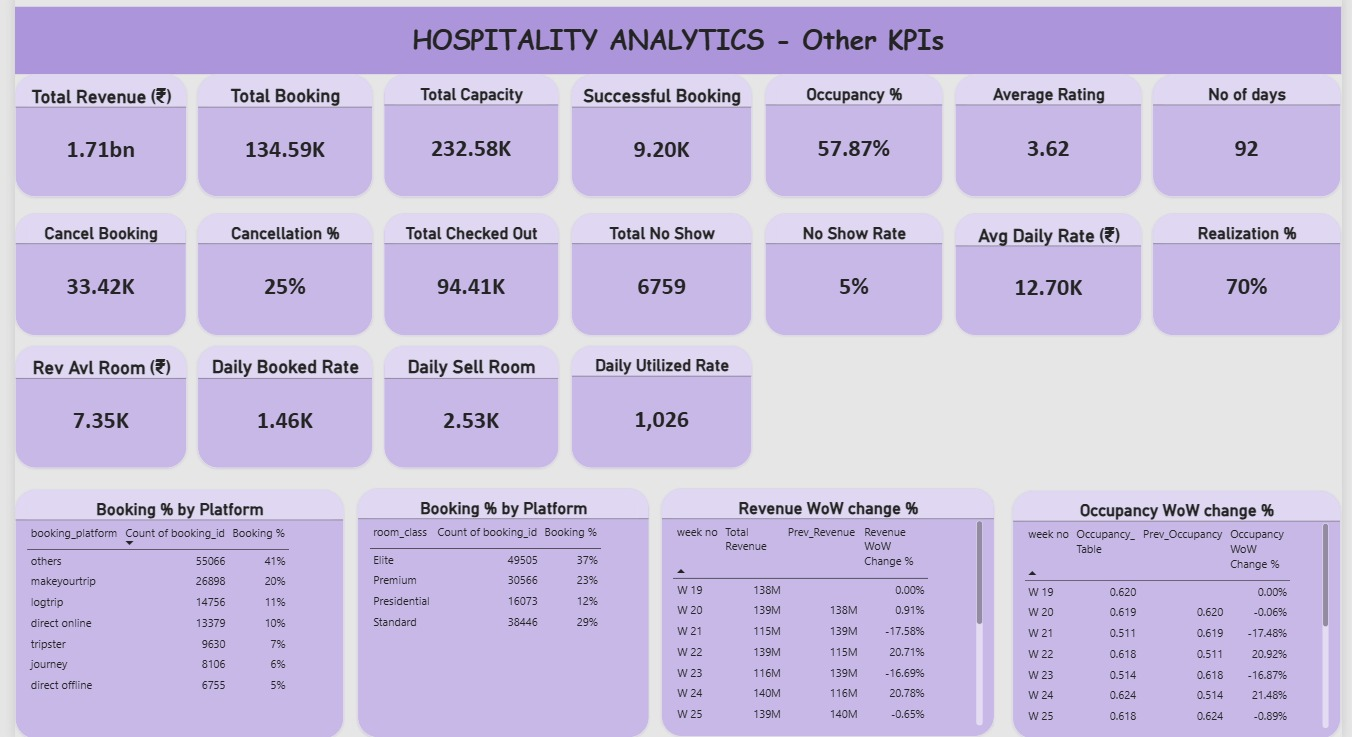

This screenshot's page, from the dashboard's own definition file:
{"tool":"powerbi","page":{"name":"KPI - 01","canvas":[1920,1080],"ordinal":1},"visuals":[{"type":"textbox","box":[0,0,1920,116.9],"z":0},{"type":"card","title":"Total Revenue (₹)","fields":{"Values":["fact_bookings.Total Revenue"]},"box":[0,116.9,248.9,177.5],"z":1000},{"type":"card","title":"Total Booking","fields":{"Values":["CountNonNull(fact_bookings.booking_id)"]},"box":[264,116.9,253.2,177.5],"z":2000},{"type":"card","title":"Total Capacity","fields":{"Values":["Sum(fact_aggregated_bookings.capacity)"]},"box":[534.5,116.9,253.2,177.5],"z":3000},{"type":"card","title":"Successful Booking","fields":{"Values":["CountNonNull(fact_aggregated_bookings.property_id)"]},"box":[805.1,116.9,261.9,177.5],"z":4000},{"type":"card","title":"Occupancy %","fields":{"Values":["fact_aggregated_bookings.Occupancy"]},"box":[1086.4,116.9,257.5,177.5],"z":5000},{"type":"card","title":"Average Rating","fields":{"Values":["Avg(fact_bookings.ratings_given)"]},"box":[1361.2,116.9,270.5,177.5],"z":6000},{"type":"card","title":"No of days","fields":{"Values":["CountNonNull(dim_date.date)"]},"box":[1646.9,116.9,272.7,177.5],"z":7000},{"type":"card","title":"Cancel Booking","fields":{"Values":["CountNonNull(fact_bookings.booking_id)"]},"box":[0,318.2,248.1,178],"z":8000},{"type":"card","title":"Total Checked Out","fields":{"Values":["CountNonNull(fact_bookings.booking_id)"]},"box":[534.5,318.1,253.2,177.5],"z":9000},{"type":"card","title":"Cancellation %","fields":{"Values":["calender.Total Cancellation Rate"]},"box":[264,318.1,253.2,177.5],"z":10000},{"type":"tableEx","title":"Booking % by Platform","fields":{"Values":["fact_bookings.booking_platform","fact_bookings.booking_id","calender.Booking %"]},"box":[0,718.5,476.1,361.4],"z":11000},{"type":"tableEx","title":"Booking % by Platform","fields":{"Values":["dim_rooms.room_class","fact_bookings.booking_id","calender.Booking %"]},"box":[495,717.5,422,361.4],"z":12000},{"type":"card","title":"Avg Daily Rate (₹)","fields":{"Values":["fact_bookings.ADR(Average Daily rate)"]},"box":[1361.2,318.1,270.5,177.5],"z":13000},{"type":"card","title":"Rev Avl Room (₹)","fields":{"Values":["fact_aggregated_bookings.RevPAR(Revenue Per Available Room)"]},"box":[0,510.7,248.9,177.5],"z":14000},{"type":"card","title":"Daily Booked Rate","fields":{"Values":["fact_bookings.DBRN(Daily Booked Room Nights)"]},"box":[264,510.7,253.2,177.5],"z":15000},{"type":"card","title":"Daily Sell Room","fields":{"Values":["fact_bookings.DSRN(Daily Sellable Room Nights)"]},"box":[534.5,510.7,253.2,177.5],"z":16000},{"type":"card","title":"Daily Utilized Rate","fields":{"Values":["calender.Utilization Capacity(DURN)R1"]},"box":[805.1,510.7,261.9,177.5],"z":17000},{"type":"card","title":"Total No Show","fields":{"Values":["CountNonNull(fact_bookings.booking_id)"]},"box":[805.1,318.1,261.9,177.5],"z":19000},{"type":"card","title":"Realization %","fields":{"Values":["calender.Realisation % (Checked out Booking)"]},"box":[1646.9,318.1,272.7,177.5],"z":20000},{"type":"card","title":"No Show Rate","fields":{"Values":["calender.Total No Show Rate"]},"box":[1086.4,318.1,257.5,177.5],"z":21000},{"type":"tableEx","title":"Revenue WoW change %","fields":{"Values":["dim_date.week no","fact_bookings.Total Revenue","calender.Previous Week Revenue","calender.Revenue WoW Change %"]},"box":[935,717.5,482.5,360],"z":21001},{"type":"tableEx","title":"Occupancy WoW change %","fields":{"Values":["dim_date.week no","fact_aggregated_bookings.Occupancy_Table","fact_aggregated_bookings.Prev_Occupancy","calender.Occupancy WoW Change %"]},"box":[1445,720,475,360],"z":21002}]}

Visuals, with their boxes on the page's 1920x1080 design canvas (x1, y1, x2, y2). These are canvas units, not pixel positions in the 1352x737 screenshot, which may show the page scaled, cropped or inside an application window:
textbox: 0/0/1920/117
"Total Revenue (₹)" card: 0/117/249/294
"Total Booking" card: 264/117/517/294
"Total Capacity" card: 534/117/788/294
"Successful Booking" card: 805/117/1067/294
"Occupancy %" card: 1086/117/1344/294
"Average Rating" card: 1361/117/1632/294
"No of days" card: 1647/117/1920/294
"Cancel Booking" card: 0/318/248/496
"Total Checked Out" card: 534/318/788/496
"Cancellation %" card: 264/318/517/496
"Booking % by Platform" tableEx: 0/718/476/1080
"Booking % by Platform" tableEx: 495/718/917/1079
"Avg Daily Rate (₹)" card: 1361/318/1632/496
"Rev Avl Room (₹)" card: 0/511/249/688
"Daily Booked Rate" card: 264/511/517/688
"Daily Sell Room" card: 534/511/788/688
"Daily Utilized Rate" card: 805/511/1067/688
"Total No Show" card: 805/318/1067/496
"Realization %" card: 1647/318/1920/496
"No Show Rate" card: 1086/318/1344/496
"Revenue WoW change %" tableEx: 935/718/1418/1078
"Occupancy WoW change %" tableEx: 1445/720/1920/1080
